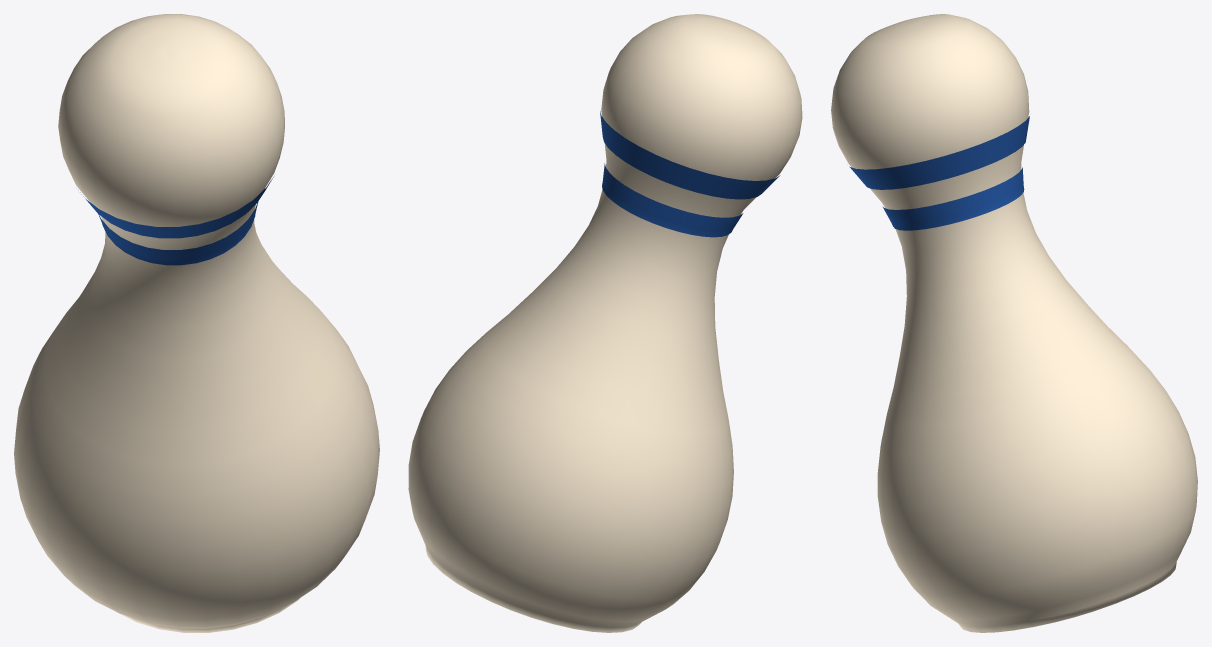
File: pinblue.glb
3 views of the same model, side by side, from view 1: azimuth 30°, elevation 25°; view 2: azimuth 150°, elevation 25°; view 3: azimuth 270°, elevation 25° (orthographic). The views are drawn at different scales.
Visible parts, largest first — view 1: pinblue; view 2: pinblue; view 3: pinblue.
Boxes of the visible parts, box(x1,y1,x2,y2) form: pinblue: box(14, 14, 379, 632); pinblue: box(408, 14, 802, 632); pinblue: box(831, 14, 1197, 632).
Size of the model in its own units: 0.5392 by 0.9624 by 0.571.
